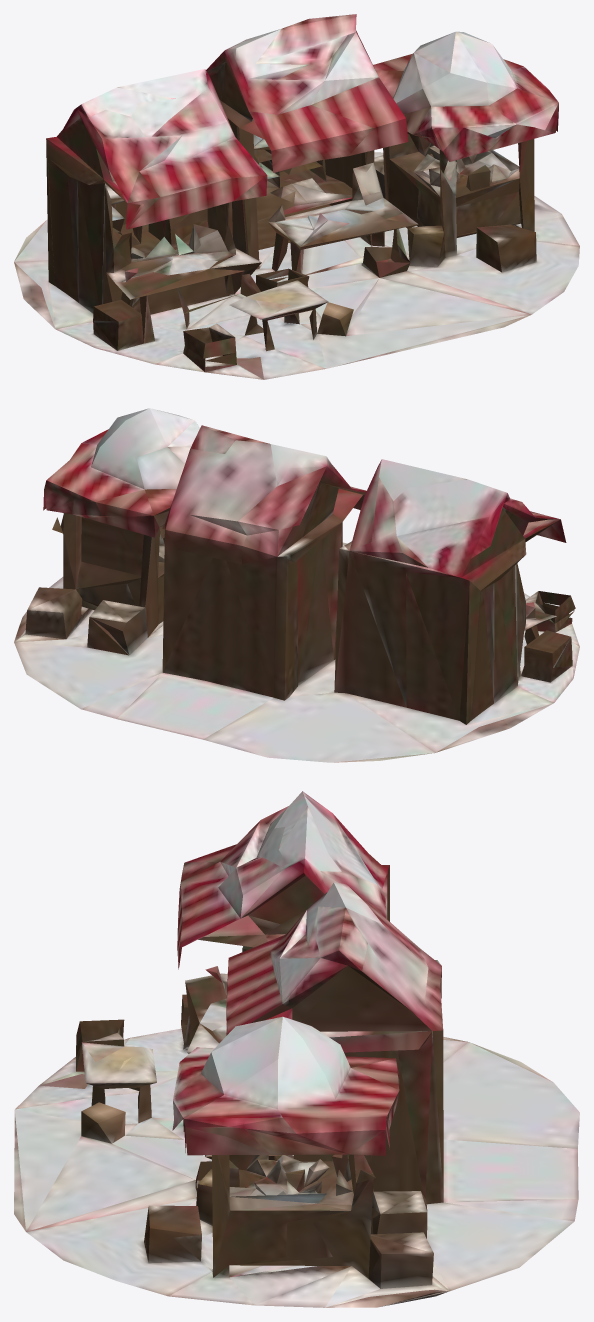
Rendered from stalls.glb.
The picture shows the model from 3 angles, top to bottom: view 1: azimuth 30°, elevation 25°; view 2: azimuth 150°, elevation 25°; view 3: azimuth 270°, elevation 25°; orthographic projection. The views are drawn at different scales.
Bounding box in the file's own units: 1.89 × 0.8042 × 1.57.
Materials: 1 (1 with a texture image).
